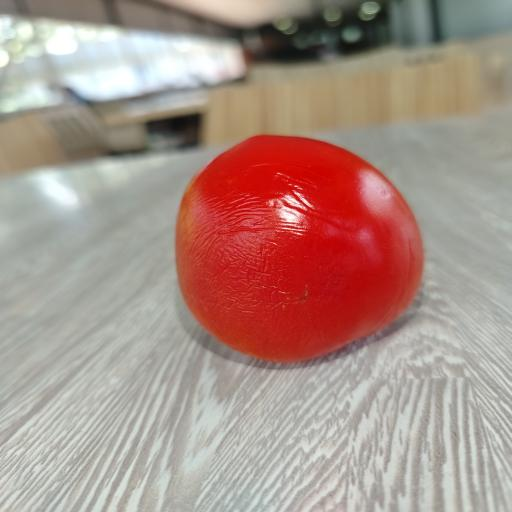spoiled: (176, 136, 423, 362)
